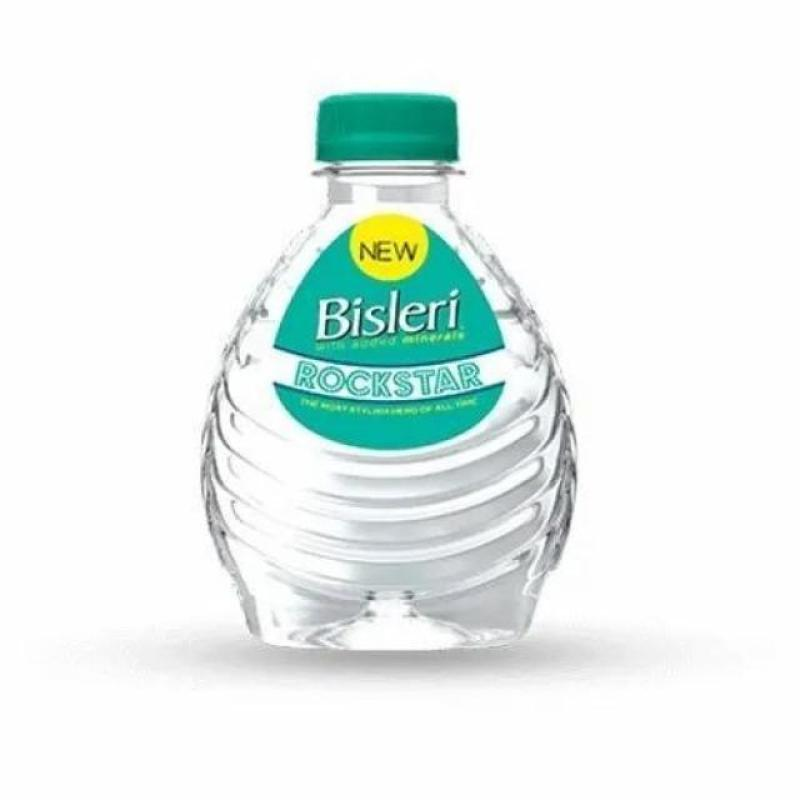botella: (200, 88, 584, 648)
